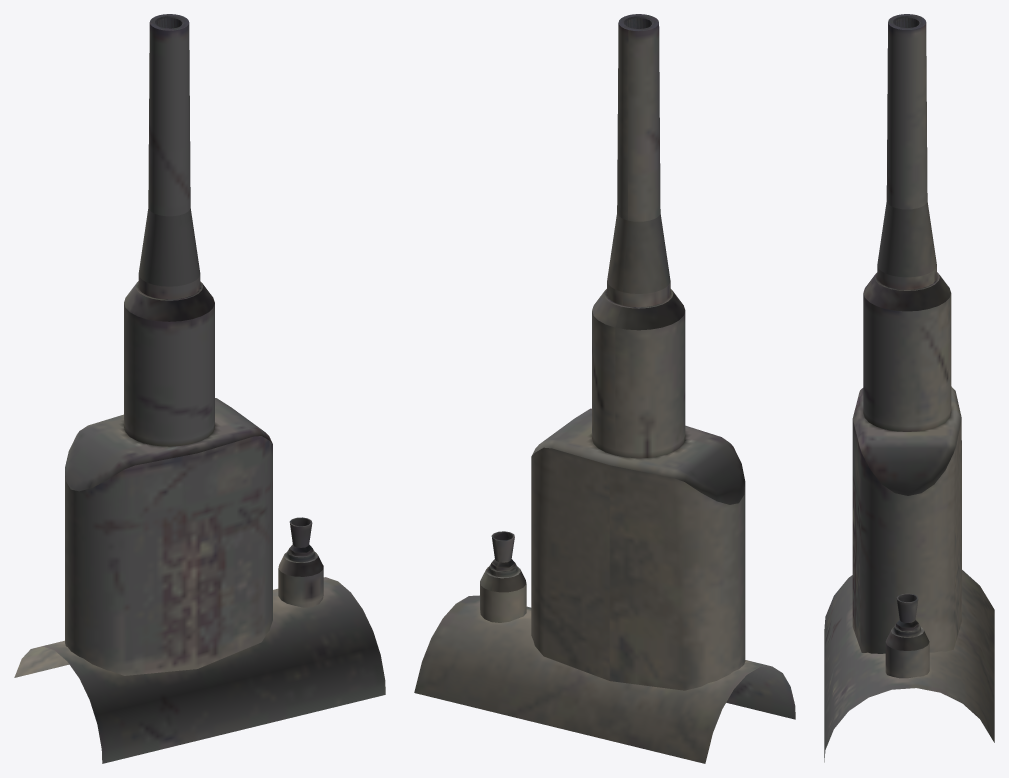
Rendered from Gun_05.glb.
3 views of the same model, side by side, from view 1: azimuth 30°, elevation 25°; view 2: azimuth 150°, elevation 25°; view 3: azimuth 270°, elevation 25° (orthographic). The views are drawn at different scales.
Visible parts, largest first — view 1: set_0_group_0; view 2: set_0_group_0; view 3: set_0_group_0.
Boxes of the visible parts, x1=… form: set_0_group_0: x1=14, y1=14, x2=385, y2=763; set_0_group_0: x1=414, y1=14, x2=795, y2=763; set_0_group_0: x1=824, y1=14, x2=994, y2=762.
Bounding box in the file's own units: 0.6275 × 1.45 × 0.3378.
Materials: 1 (1 with a texture image).
